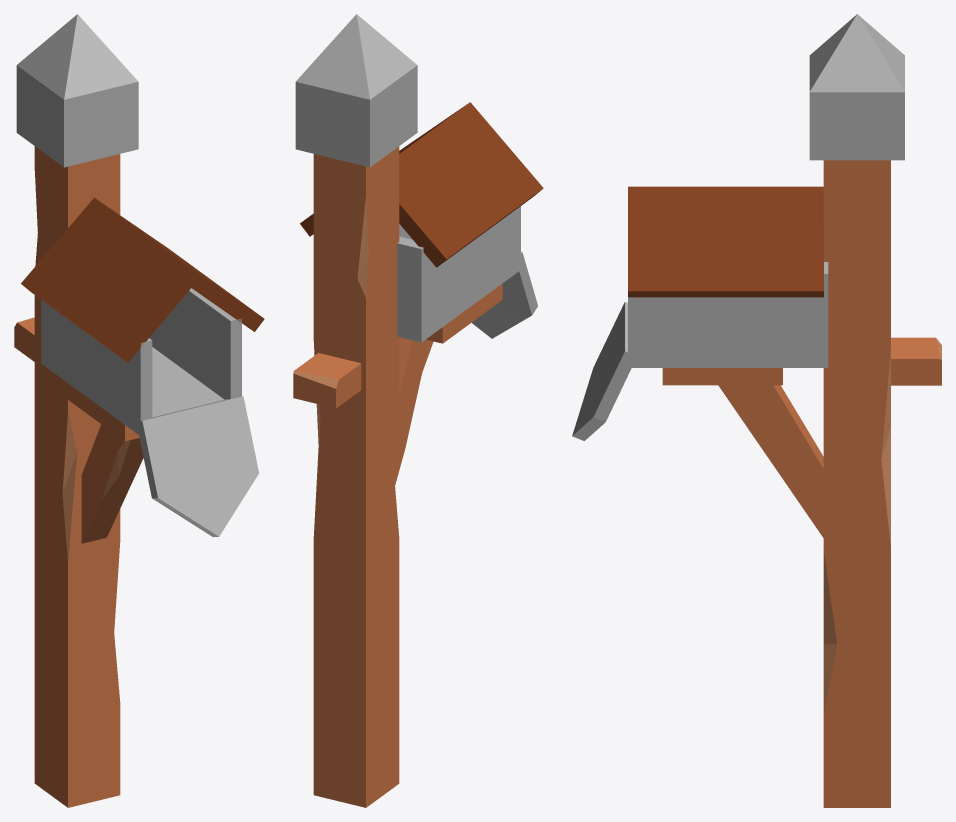
Rendered from Mailbox.fbx.
3 views of the same model, side by side, from view 1: azimuth 30°, elevation 25°; view 2: azimuth 150°, elevation 25°; view 3: azimuth 270°, elevation 25° (orthographic).
Parts seen in each view (by area): view 1: Mailbox; view 2: Mailbox; view 3: Mailbox.
Boxes of the visible parts, left/top/right/bottom form: Mailbox: left=14, top=14, right=264, bottom=807; Mailbox: left=293, top=14, right=543, bottom=807; Mailbox: left=572, top=14, right=941, bottom=807.
Bounding box in the file's own units: 10.69 × 53.95 × 23.15.
